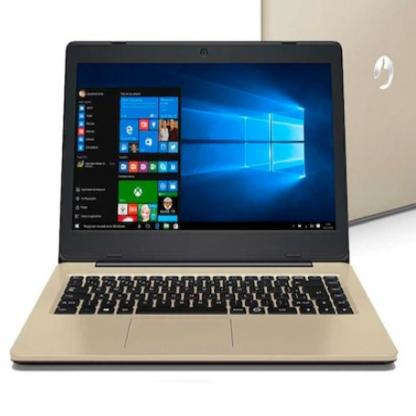NOTEBOOK: (40, 25, 400, 381)
